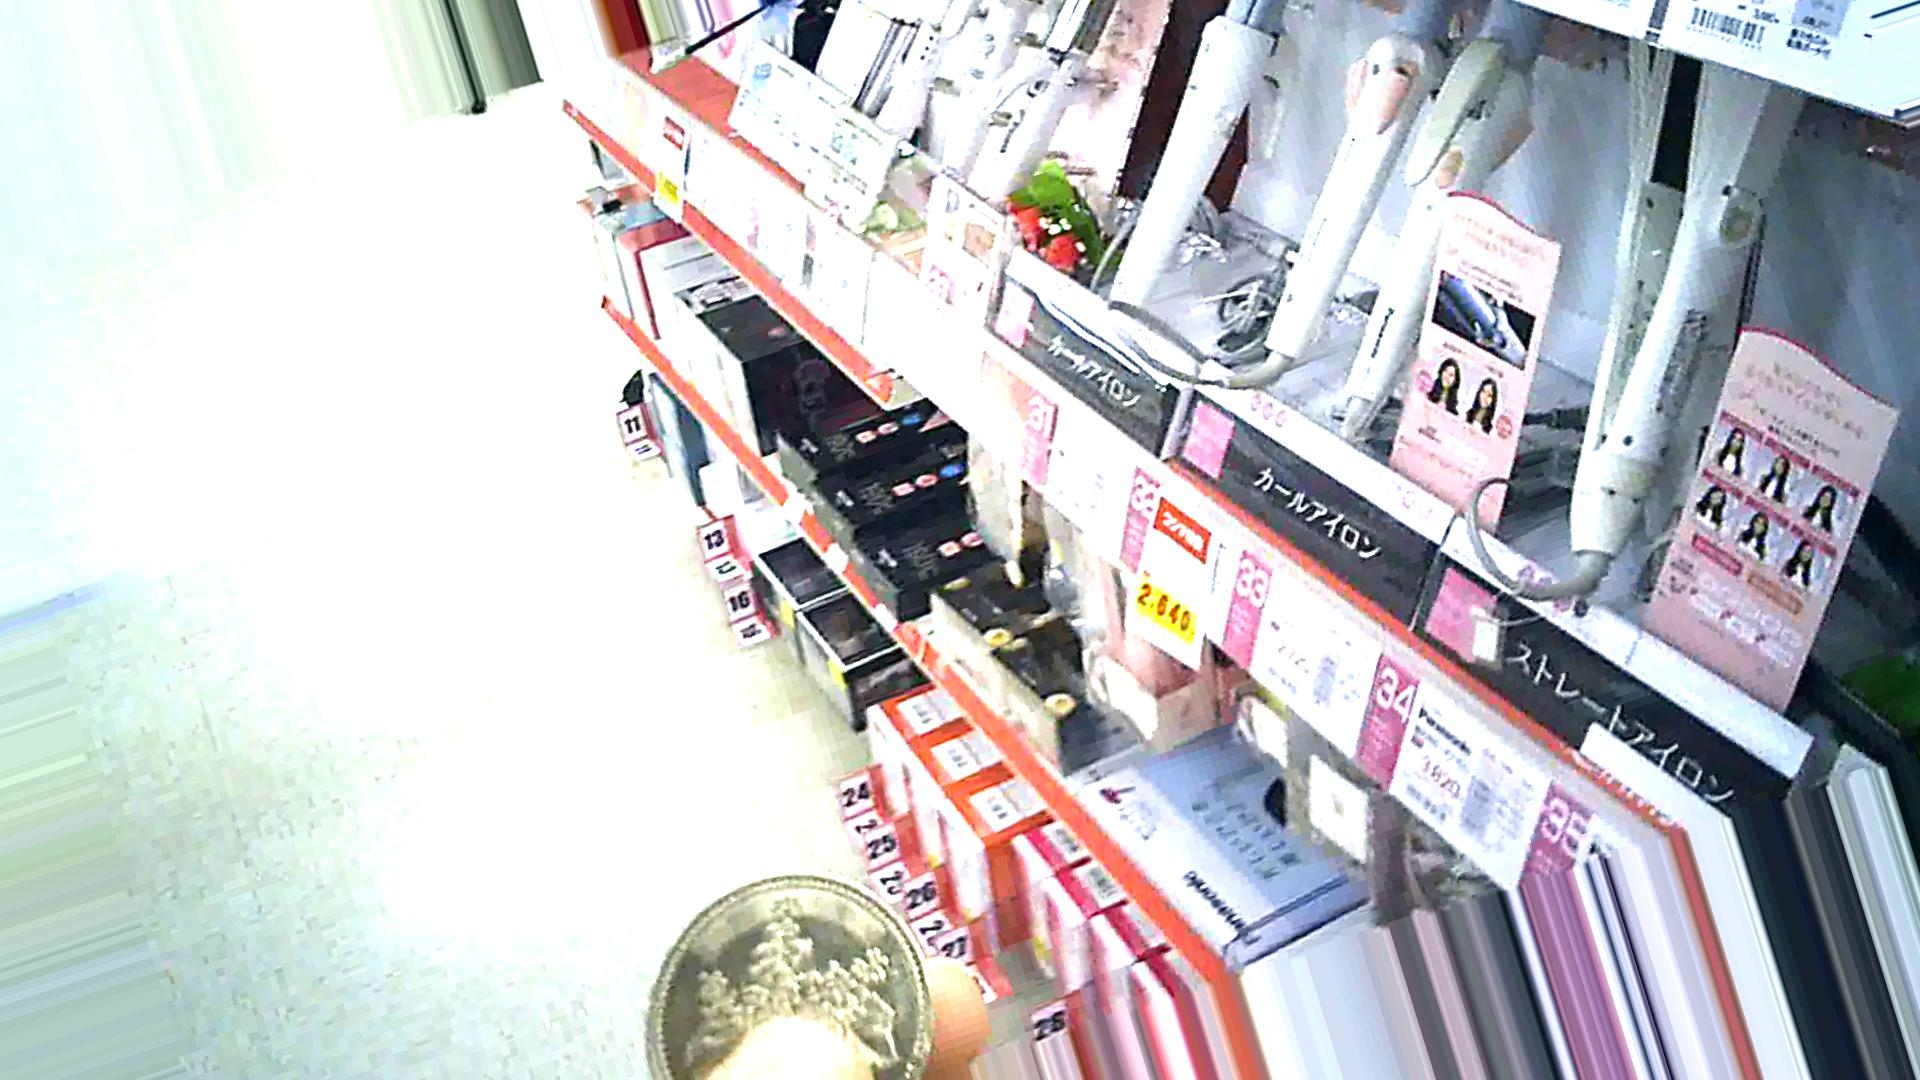500 Yen: (632, 856, 934, 1079)
